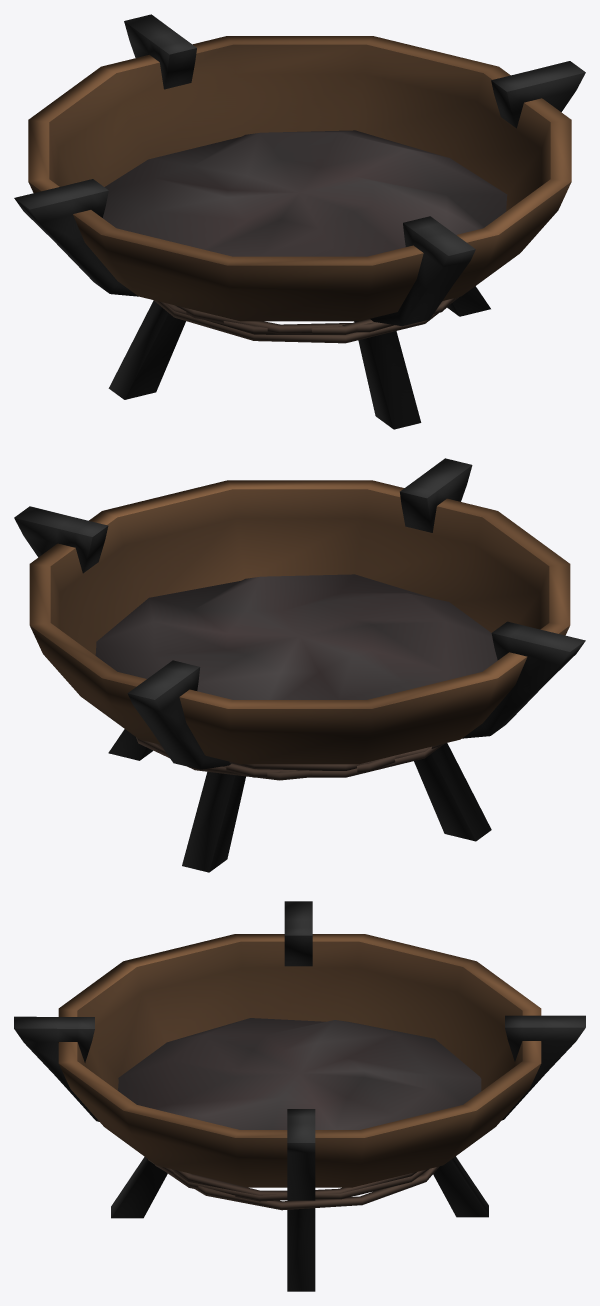
The picture shows the model from 3 angles, top to bottom: view 1: azimuth 30°, elevation 25°; view 2: azimuth 150°, elevation 25°; view 3: azimuth 270°, elevation 25°; orthographic projection. The views are drawn at different scales.
Visible parts, largest first — view 1: base.044; view 2: base.044; view 3: base.044.
Part boxes in pixels (x1,y1,x2,y2): base.044: [14, 14, 585, 429]; base.044: [14, 458, 585, 872]; base.044: [14, 901, 585, 1291].
Size of the model in its own units: 0.5 by 0.183 by 0.5.
